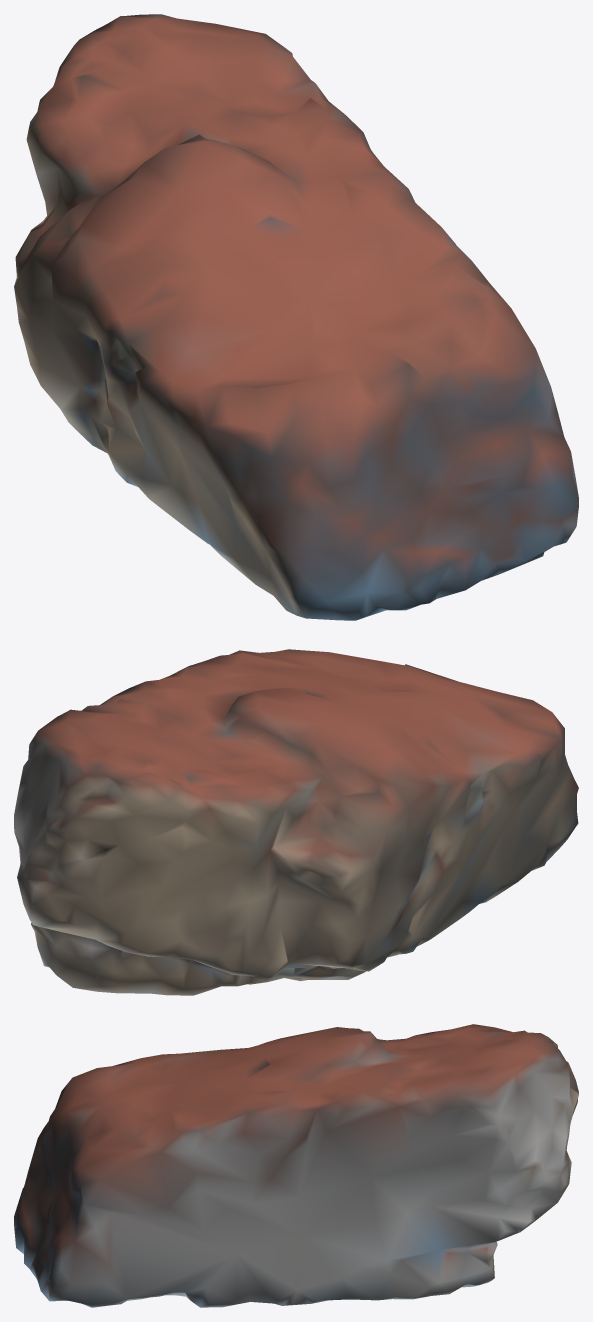
The model's file is Rock07.fbx.
3 views of the same model, one above another, from view 1: azimuth 30°, elevation 25°; view 2: azimuth 150°, elevation 25°; view 3: azimuth 270°, elevation 25° (orthographic). The views are drawn at different scales.
Visible parts, largest first — view 1: Rock07_LOD0; view 2: Rock07_LOD0; view 3: Rock07_LOD0.
Boxes of the visible parts, <box> form: Rock07_LOD0: <box>14,14,578,620</box>; Rock07_LOD0: <box>14,649,578,995</box>; Rock07_LOD0: <box>14,1024,578,1307</box>.
Size of what is drawn, in the model's own units: 0.4721 by 0.4035 by 0.8996.
